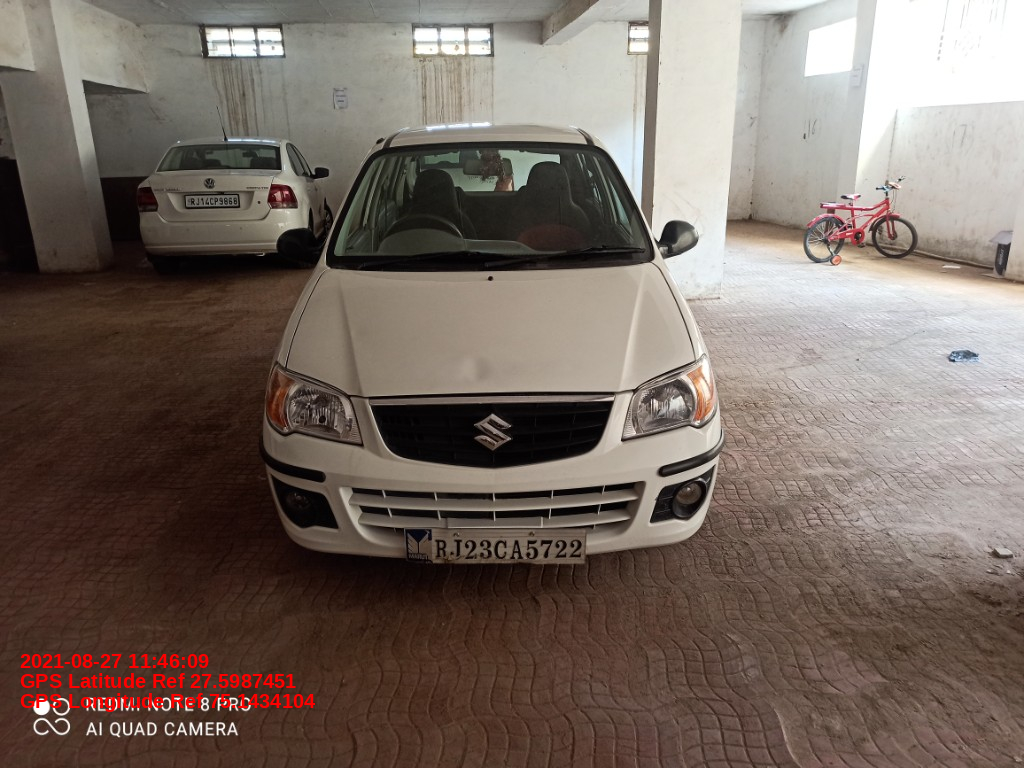Pressed: (455, 349, 508, 385)
